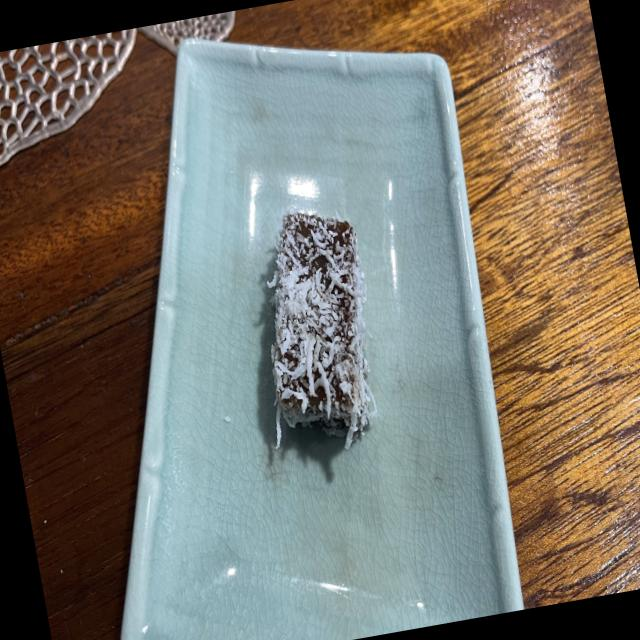kaswi: (268, 211, 374, 449)
